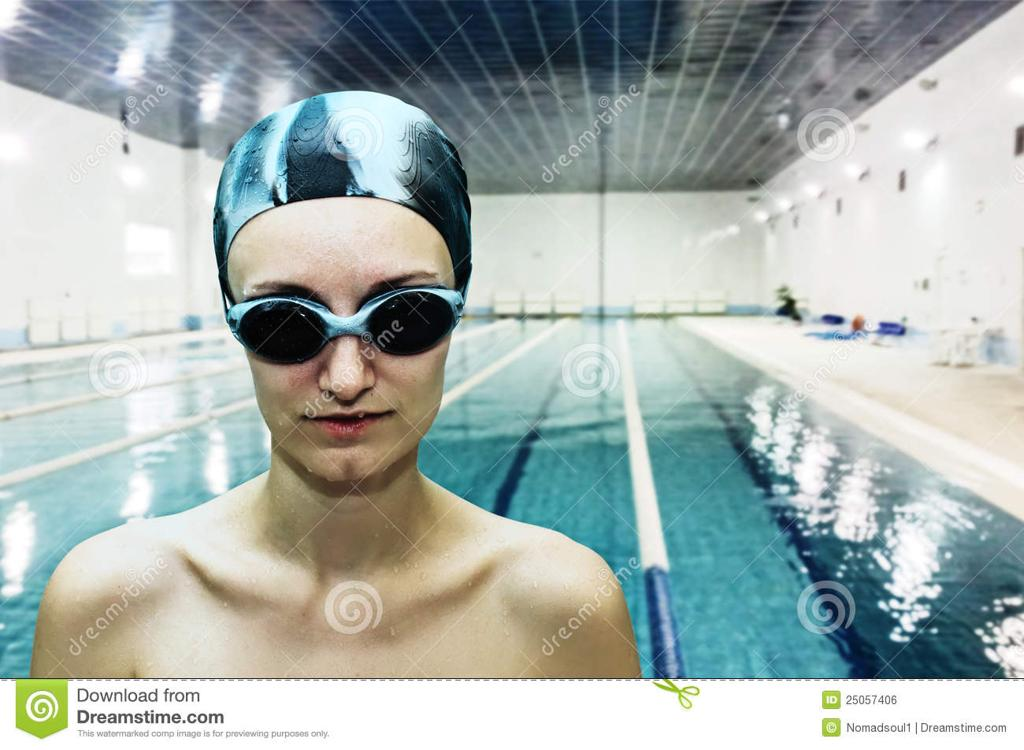face: (242, 232, 442, 488)
